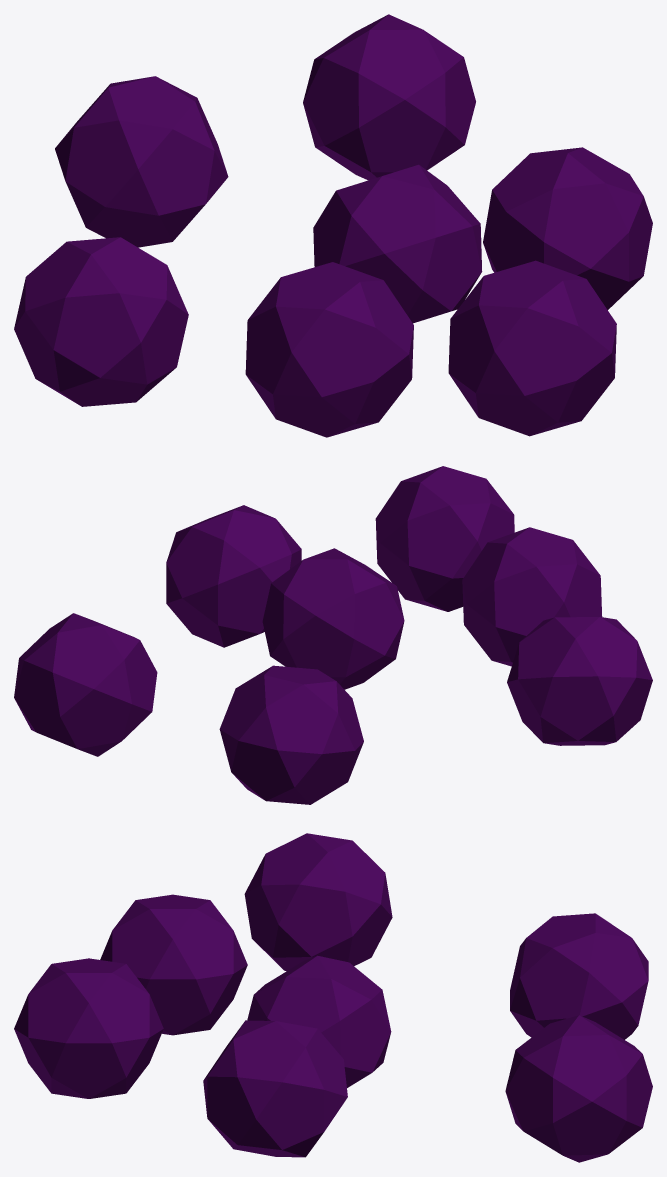
File: Berry.FBX
3 views of the same model, one above another, from view 1: azimuth 30°, elevation 25°; view 2: azimuth 150°, elevation 25°; view 3: azimuth 270°, elevation 25° (orthographic). The views are drawn at different scales.
Parts seen in each view (by area): view 1: Hedra002, Hedra007, Hedra004, Hedra005, Hedra006, Hedra001, Hedra003; view 2: Hedra006, Hedra004, Hedra005, Hedra003, Hedra002, Hedra001, Hedra007; view 3: Hedra002, Hedra005, Hedra004, Hedra001, Hedra007, Hedra006, Hedra003.
Part boxes in pixels (left/top/right/bottom): Hedra002: left=448, top=260, right=616, bottom=436; Hedra007: left=245, top=262, right=413, bottom=437; Hedra004: left=14, top=237, right=188, bottom=406; Hedra005: left=303, top=14, right=475, bottom=180; Hedra006: left=55, top=76, right=228, bottom=247; Hedra001: left=483, top=147, right=652, bottom=309; Hedra003: left=313, top=164, right=482, bottom=323; Hedra006: left=219, top=665, right=363, bottom=804; Hedra004: left=507, top=617, right=652, bottom=745; Hedra005: left=14, top=613, right=157, bottom=756; Hedra003: left=262, top=548, right=404, bottom=689; Hedra002: left=375, top=466, right=514, bottom=611; Hedra001: left=166, top=505, right=301, bottom=647; Hedra007: left=462, top=527, right=602, bottom=666; Hedra002: left=14, top=958, right=163, bottom=1098; Hedra005: left=505, top=1015, right=652, bottom=1162; Hedra004: left=244, top=833, right=392, bottom=971; Hedra001: left=203, top=1020, right=347, bottom=1157; Hedra007: left=100, top=894, right=247, bottom=1035; Hedra006: left=510, top=913, right=648, bottom=1039; Hedra003: left=247, top=955, right=391, bottom=1087.
Bounding box in the file's own units: 8.1 × 2.1 × 8.97.
